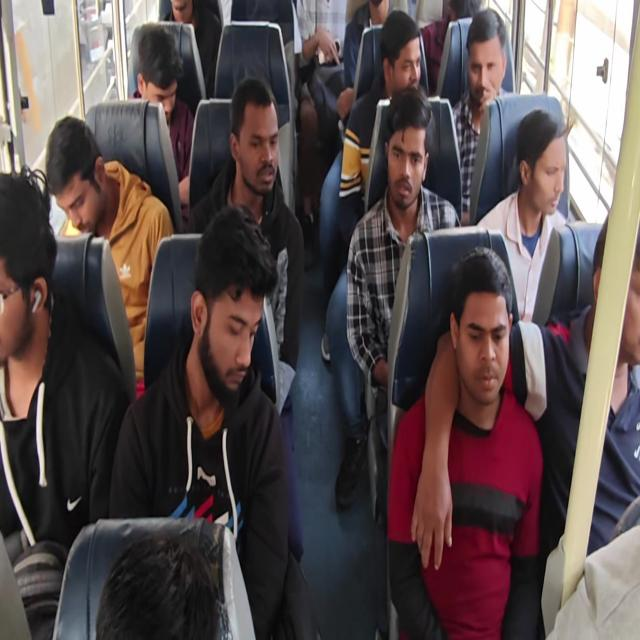person: (1, 1, 638, 638), (420, 208, 640, 636), (108, 203, 319, 638), (386, 246, 544, 638), (0, 165, 129, 637), (187, 77, 306, 560), (343, 84, 461, 509), (319, 8, 423, 362), (45, 115, 174, 398), (475, 107, 572, 326), (128, 22, 195, 226), (95, 532, 220, 639), (294, 0, 347, 235), (451, 8, 508, 224), (545, 522, 639, 639), (337, 0, 392, 122), (162, 0, 221, 98)
